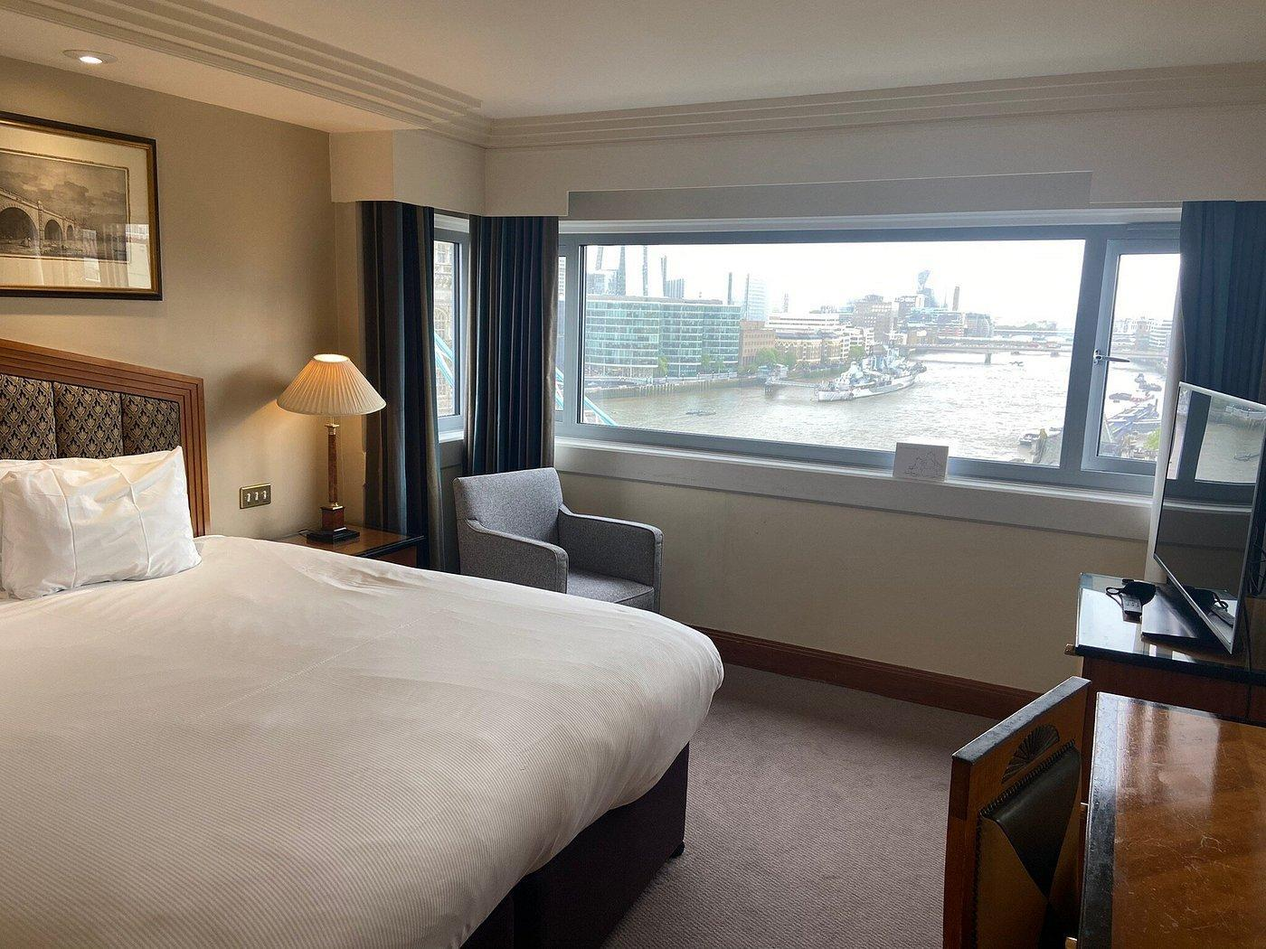chair: (446, 468, 654, 605)
clean_bed: (2, 336, 717, 946)
clean_floor: (586, 666, 984, 948)
lamp: (274, 358, 385, 554)
organized table: (1091, 560, 1266, 949)
